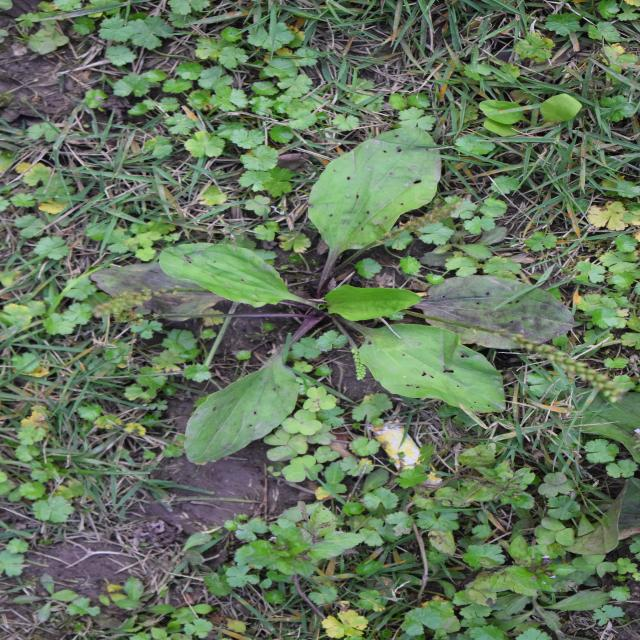plantain: (167, 148, 482, 517)
